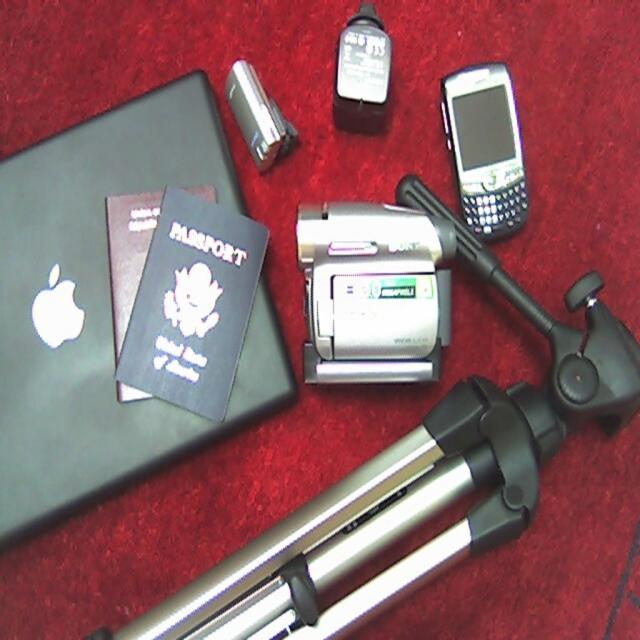Mobile-phone: (434, 57, 539, 256)
